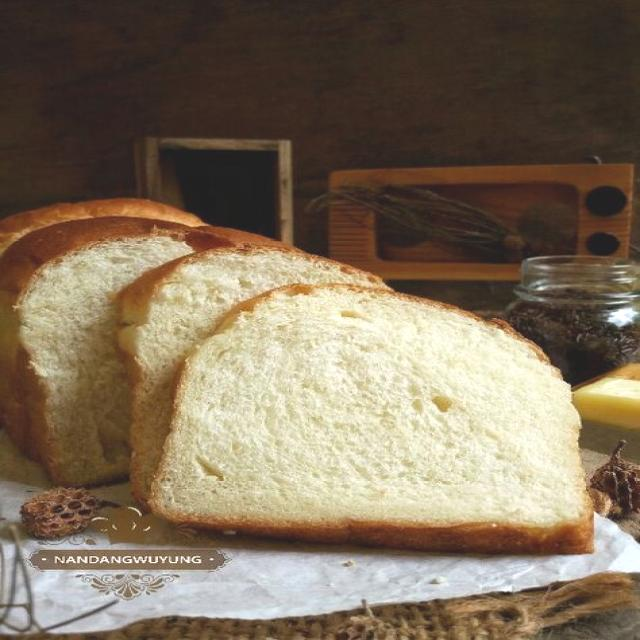roti tawar: (132, 283, 594, 556)
